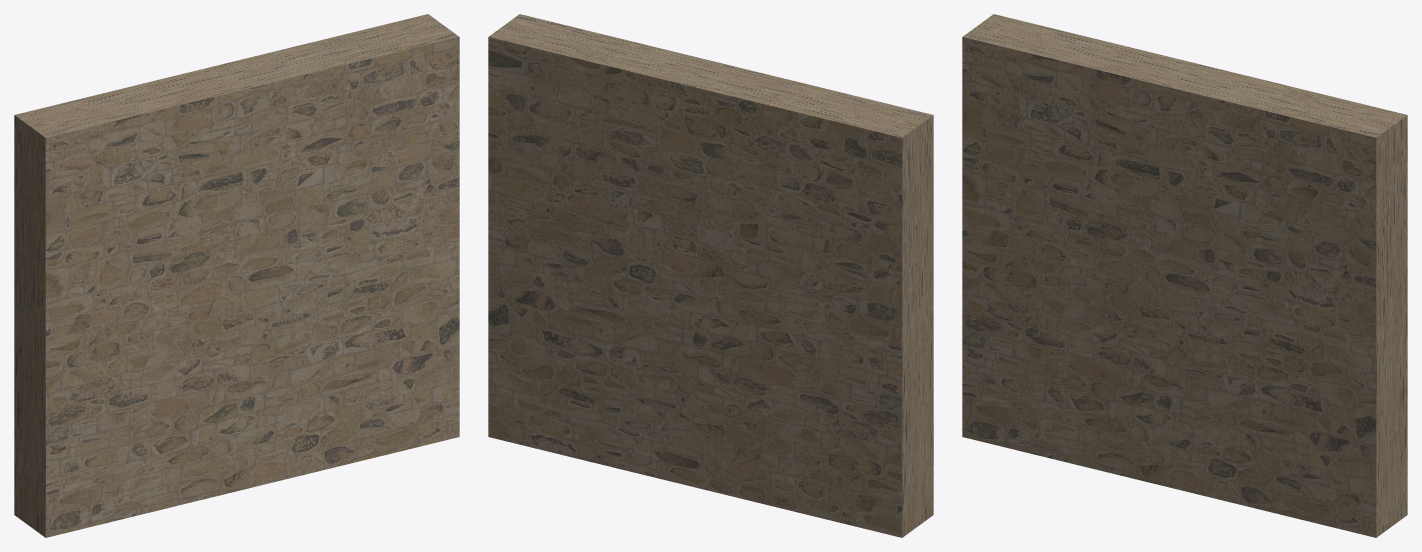
Rendered from cube-wall.glb.
3 renders of one model, left to right at view 1: azimuth 30°, elevation 25°; view 2: azimuth 150°, elevation 25°; view 3: azimuth 330°, elevation 25°, orthographic.
Parts seen in each view (by area): view 1: Cube; view 2: Cube; view 3: Cube.
Boxes of the visible parts, left/top/right/bottom form: Cube: left=14, top=14, right=459, bottom=537; Cube: left=488, top=14, right=933, bottom=537; Cube: left=962, top=14, right=1407, bottom=537.
Bounding box in the file's own units: 15.26 × 14.09 × 2.
1 material, 1 textured.
